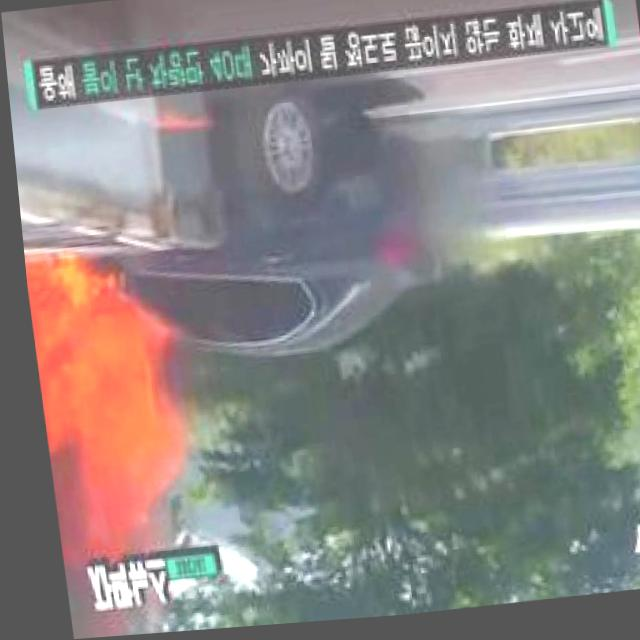helmet: (19, 240, 192, 567)
